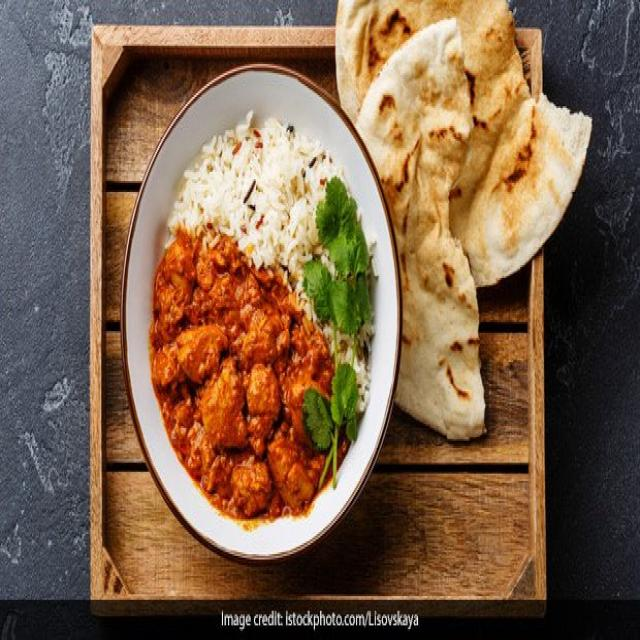Chicken Tikka: (149, 220, 351, 524)
